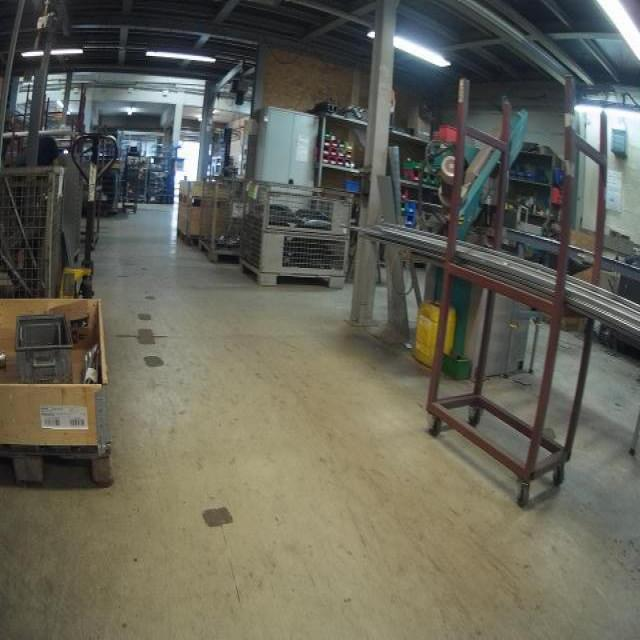pallet: (3, 448, 118, 488), (178, 193, 229, 210), (175, 227, 206, 248)
pallet_truck: (68, 134, 114, 292)
stillage: (236, 178, 361, 294), (1, 161, 68, 302), (199, 170, 249, 268), (65, 147, 87, 266)
